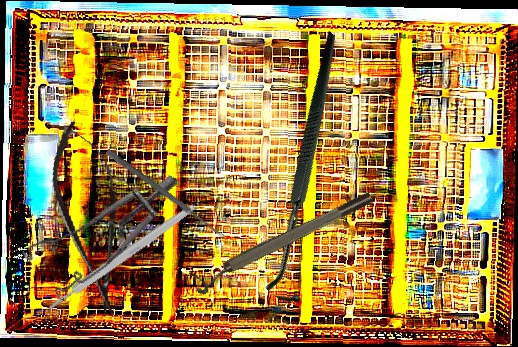Fixation Ring: (188, 188, 379, 297)
Hook Surgical: (175, 30, 447, 312)
Micro Scissor: (41, 116, 140, 322)
Scalpel Handle: (44, 201, 198, 314)
Speculum: (10, 131, 180, 324)
Surgical Spoon: (104, 148, 228, 241)
